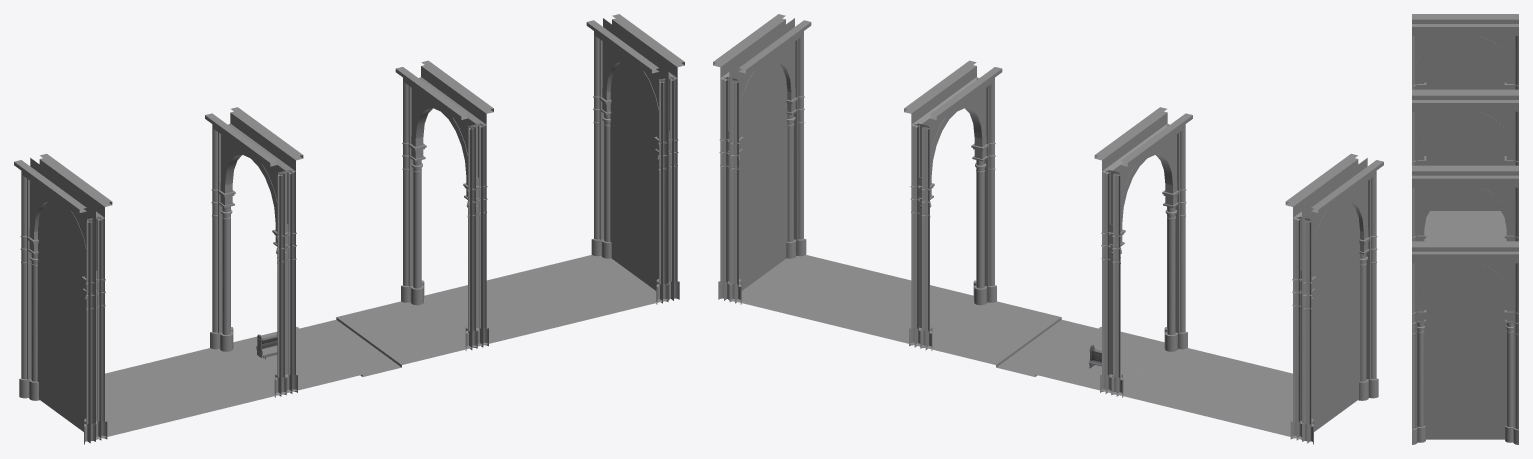
The model's file is G_FullCathedral.FBX.
3 renders of one model, left to right at view 1: azimuth 30°, elevation 25°; view 2: azimuth 150°, elevation 25°; view 3: azimuth 270°, elevation 25°, orthographic. The views are drawn at different scales.
Parts seen in each view (by area): view 1: Object002, Object004, Object003, Object005; view 2: Object002, Object004, Object003, Object005; view 3: Object003, Object002, Object004, Object005.
Boxes of the visible parts, <box> form: Object002: <box>317,14,684,372</box>; Object004: <box>14,107,381,444</box>; Object003: <box>603,18,668,300</box>; Object005: <box>30,158,95,440</box>; Object002: <box>713,14,1080,372</box>; Object004: <box>1016,107,1383,444</box>; Object003: <box>729,18,794,300</box>; Object005: <box>1302,158,1367,440</box>; Object003: <box>1412,248,1518,439</box>; Object002: <box>1412,165,1518,444</box>; Object004: <box>1412,14,1518,241</box>; Object005: <box>1412,20,1518,210</box>.
Bounding box in the file's own units: 315 × 118 × 59.08.
